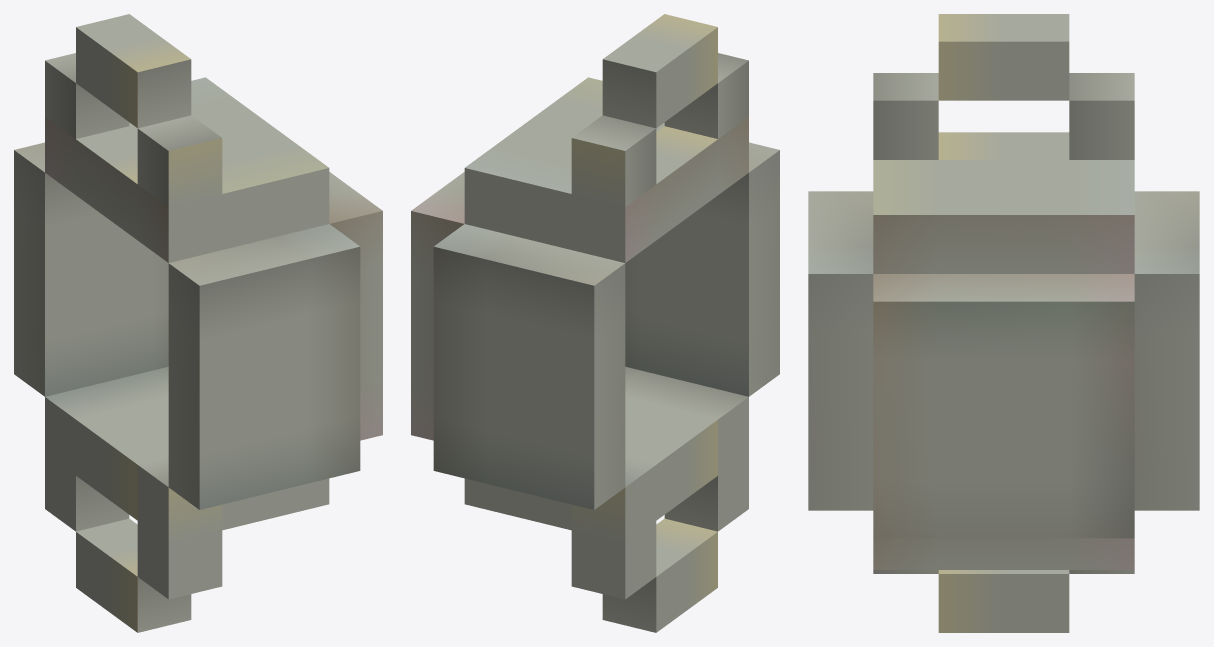
Rendered from Pot_00.obj.
The picture shows the model from 3 angles, left to right: view 1: azimuth 30°, elevation 25°; view 2: azimuth 150°, elevation 25°; view 3: azimuth 270°, elevation 25°; orthographic projection. The views are drawn at different scales.
Visible parts, largest first — view 1: Pot_00; view 2: Pot_00; view 3: Pot_00.
Boxes of the visible parts, x1,y1,x2,y2 form: Pot_00: (14, 14, 382, 632); Pot_00: (411, 14, 779, 632); Pot_00: (808, 14, 1199, 632).
Size of the model in its own units: 0.2 by 0.5 by 0.3.
